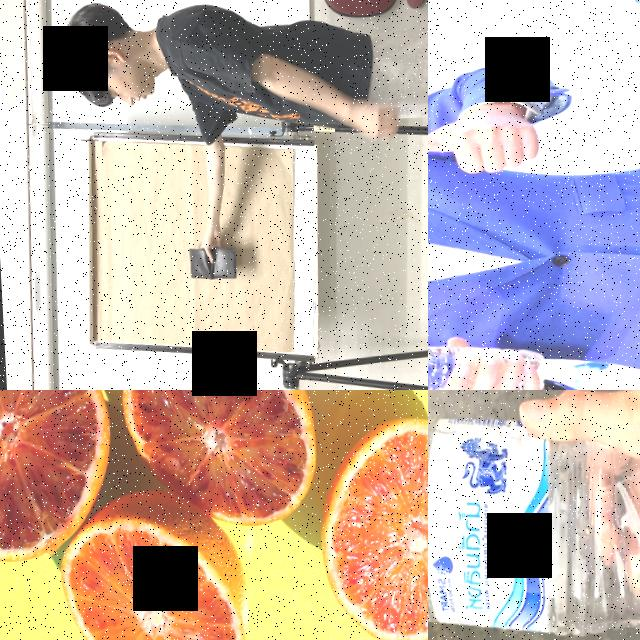bottle: (428, 394, 640, 640), (428, 330, 546, 390)
